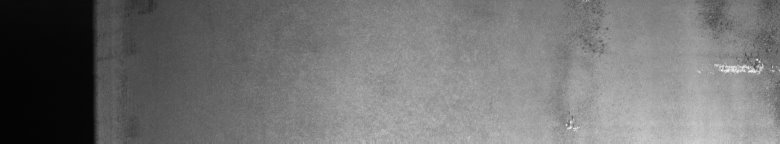hc: (696, 4, 776, 88)
